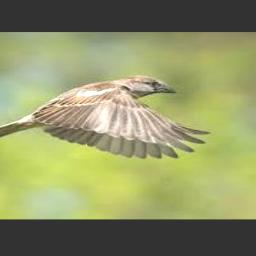Sparrow: (0, 75, 210, 158)
